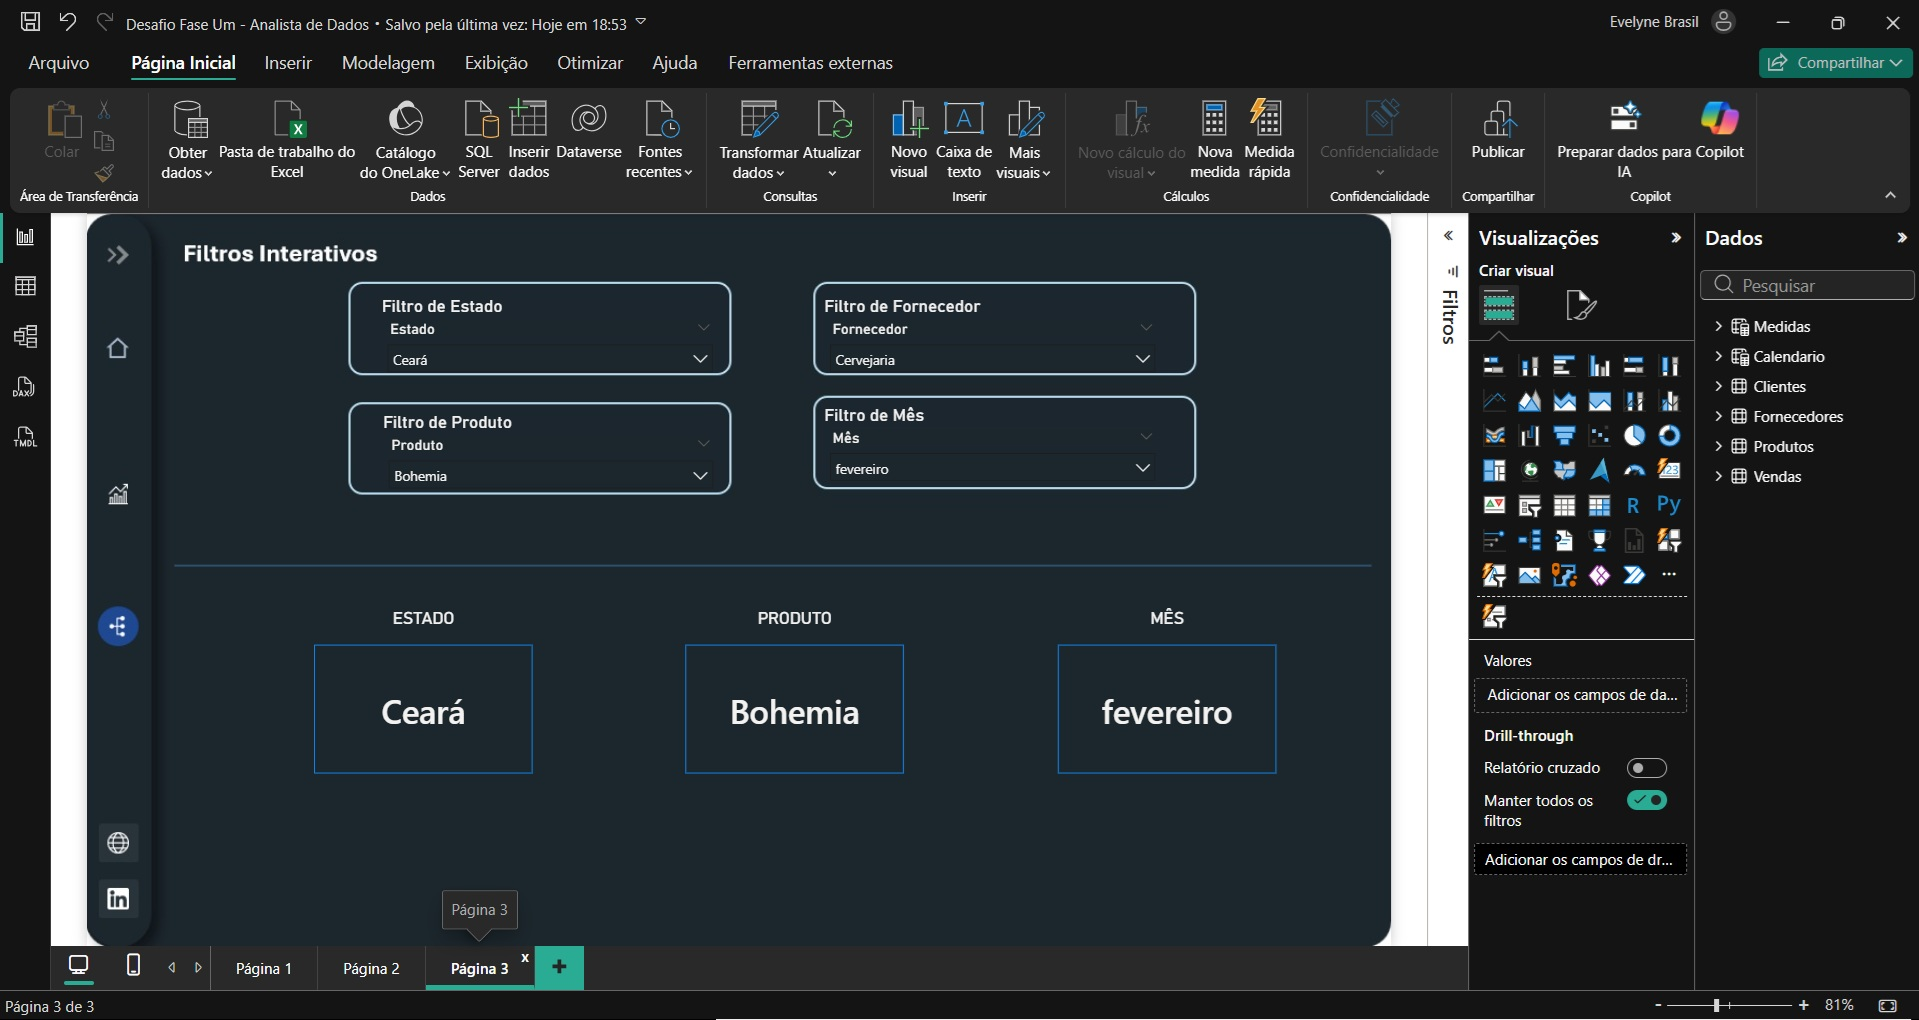

This screenshot's page, from the dashboard's own definition file:
{"tool":"powerbi","page":{"name":"Página 3","canvas":[1280,720],"ordinal":2},"visuals":[{"type":"slicer","title":"Filtro de Estado","fields":{"Values":["Clientes.Estado"]},"box":[284.7,81,339.9,84.7],"z":0},{"type":"slicer","title":"Filtro de Fornecedor","fields":{"Values":["Produtos.Fornecedorer"]},"box":[719,81,339.9,114.1],"z":1000},{"type":"slicer","title":"Filtro de Produto","fields":{"Values":["Produtos.Nome Produto"]},"box":[285.9,195.1,338.7,74.8],"z":2000},{"type":"slicer","title":"Filtro de Mês","fields":{"Values":["Calendario.Mes"]},"box":[719,187.7,339.9,84.7],"z":3000},{"type":"actionButton","box":[17.2,93.4,44.2,59],"z":4000},{"type":"actionButton","box":[17.2,243.3,44.2,59],"z":5000},{"type":"cardVisual","title":"ESTADO","fields":{"Data":["Medidas.Estado Selecionado"]},"box":[206.5,388.3,248.2,179.4],"z":6000},{"type":"cardVisual","title":"PRODUTO","fields":{"Data":["Medidas.Produto Selecionado"]},"box":[570.2,388.3,248.2,179.4],"z":7000},{"type":"cardVisual","title":"MÊS","fields":{"Data":["Medidas.Mês Selecionado"]},"box":[936.4,388.3,248.2,179.4],"z":8000},{"type":"shape","box":[86,270.4,1174.8,152.4],"z":9000},{"type":"actionButton","box":[17.4,656.5,33.3,31.9],"z":10000},{"type":"actionButton","box":[5.8,600,44.9,31.9],"z":11000}]}

Visuals, with their boxes on the page's 1280x720 design canvas (x1, y1, x2, y2). These are canvas units, not pixel positions in the 1919x1020 screenshot, which may show the page scaled, cropped or inside an application window:
"Filtro de Estado" slicer: [left=285, top=81, right=625, bottom=166]
"Filtro de Fornecedor" slicer: [left=719, top=81, right=1059, bottom=195]
"Filtro de Produto" slicer: [left=286, top=195, right=625, bottom=270]
"Filtro de Mês" slicer: [left=719, top=188, right=1059, bottom=272]
actionButton: [left=17, top=93, right=61, bottom=152]
actionButton: [left=17, top=243, right=61, bottom=302]
"ESTADO" cardVisual: [left=206, top=388, right=455, bottom=568]
"PRODUTO" cardVisual: [left=570, top=388, right=818, bottom=568]
"MÊS" cardVisual: [left=936, top=388, right=1185, bottom=568]
shape: [left=86, top=270, right=1261, bottom=423]
actionButton: [left=17, top=656, right=51, bottom=688]
actionButton: [left=6, top=600, right=51, bottom=632]
